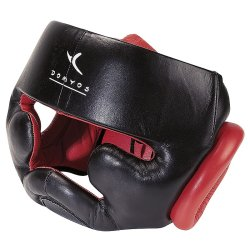helmet: (17, 20, 241, 228)
